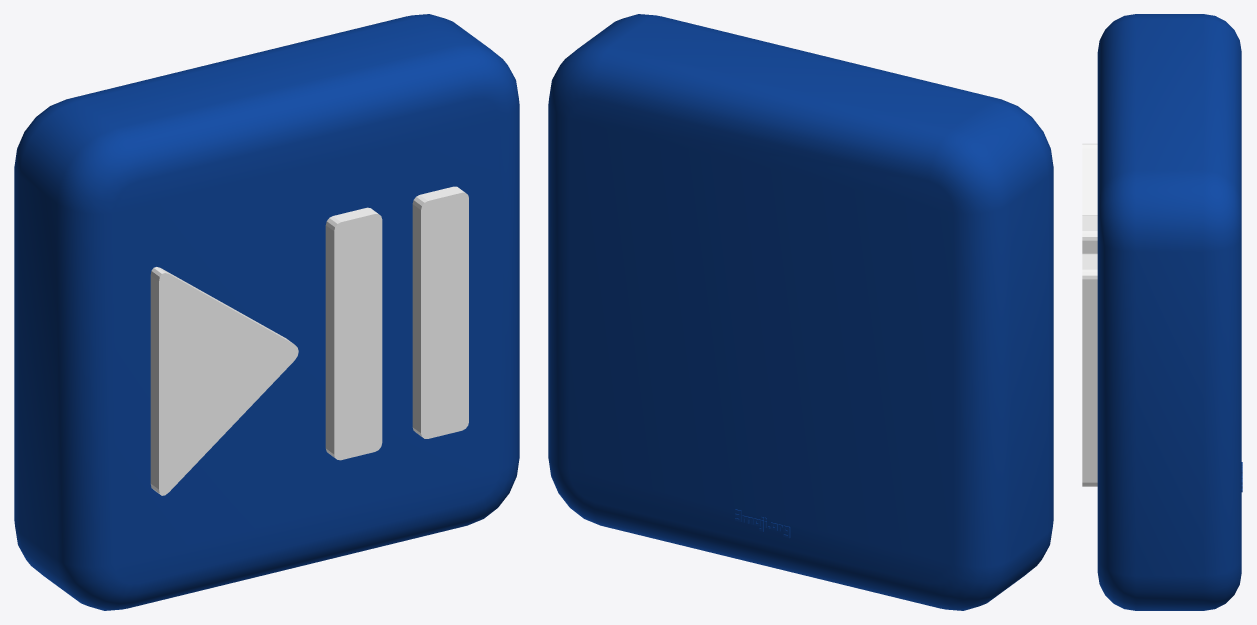
Rendered from play_or_pause_button.fbx.
3 views of the same model, side by side, from view 1: azimuth 30°, elevation 25°; view 2: azimuth 150°, elevation 25°; view 3: azimuth 270°, elevation 25° (orthographic). The views are drawn at different scales.
Parts seen in each view (by area): view 1: Cube.6422; view 2: Cube.6422; view 3: Cube.6422.
Part boxes in pixels (box(x1,y1,x2,y2)): Cube.6422: box(14, 14, 519, 610); Cube.6422: box(548, 14, 1053, 610); Cube.6422: box(1082, 14, 1242, 610).
Size of the model in its own units: 220 by 220 by 73.37.
Materials: 1 (1 with a texture image).
